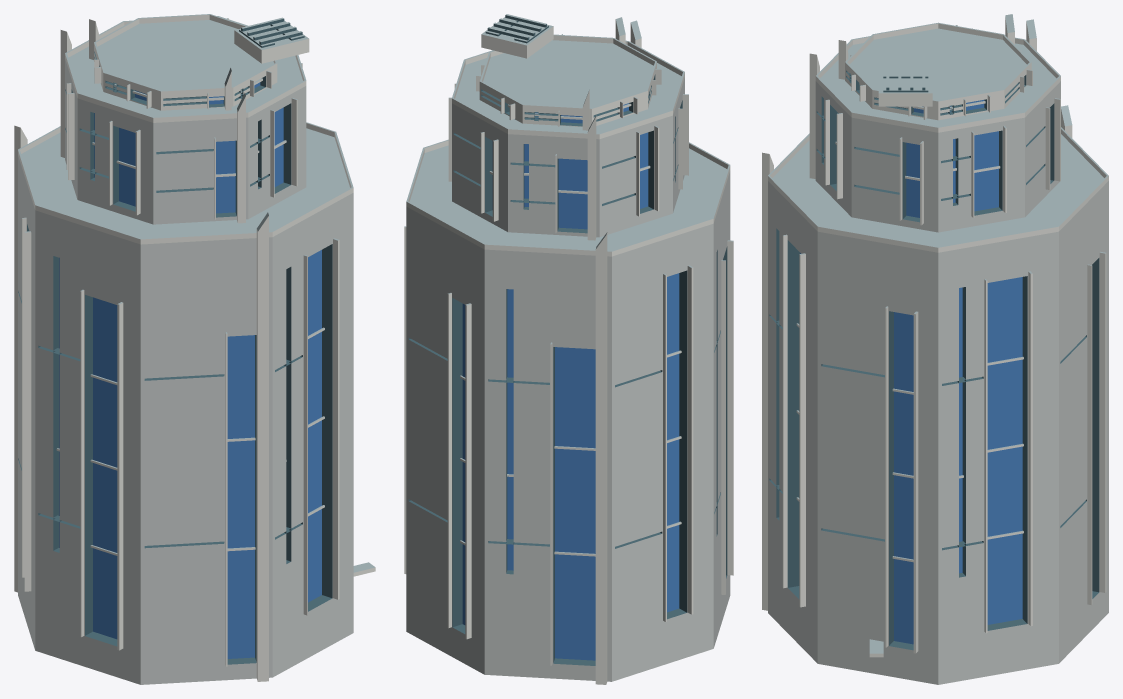
Rendered from 19_Achteckterrasse.obj.
3 views of the same model, side by side, from view 1: azimuth 30°, elevation 25°; view 2: azimuth 150°, elevation 25°; view 3: azimuth 270°, elevation 25° (orthographic). The views are drawn at different scales.
Size of the model in its own units: 0.5499 by 1 by 0.5506.
